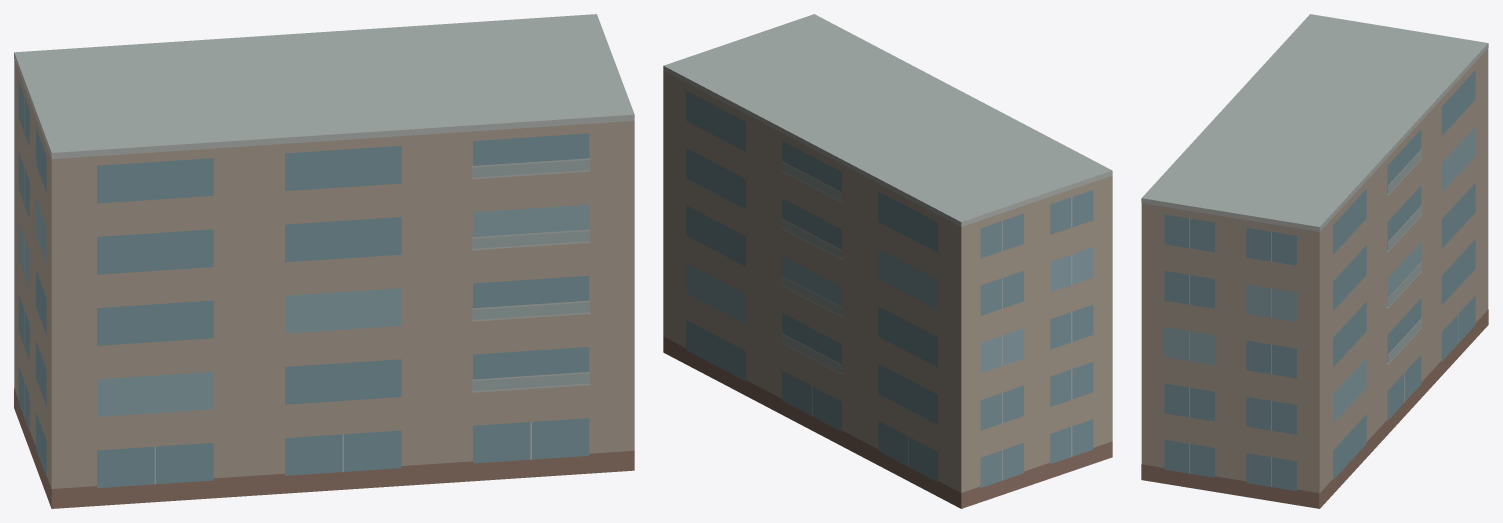
Rendered from survey-upis-33047390.glb.
3 views of the same model, side by side, from view 1: azimuth 30°, elevation 25°; view 2: azimuth 150°, elevation 25°; view 3: azimuth 270°, elevation 25° (orthographic). The views are drawn at different scales.
Visible parts, largest first — view 1: survey-upis-33047390.tmp; view 2: survey-upis-33047390.tmp; view 3: survey-upis-33047390.tmp.
Part boxes in pixels (<box>): survey-upis-33047390.tmp: <box>14,14,634,508</box>; survey-upis-33047390.tmp: <box>663,14,1112,508</box>; survey-upis-33047390.tmp: <box>1141,14,1488,508</box>.
Size of the model in its own units: 22.87 by 14.1 by 15.74.
